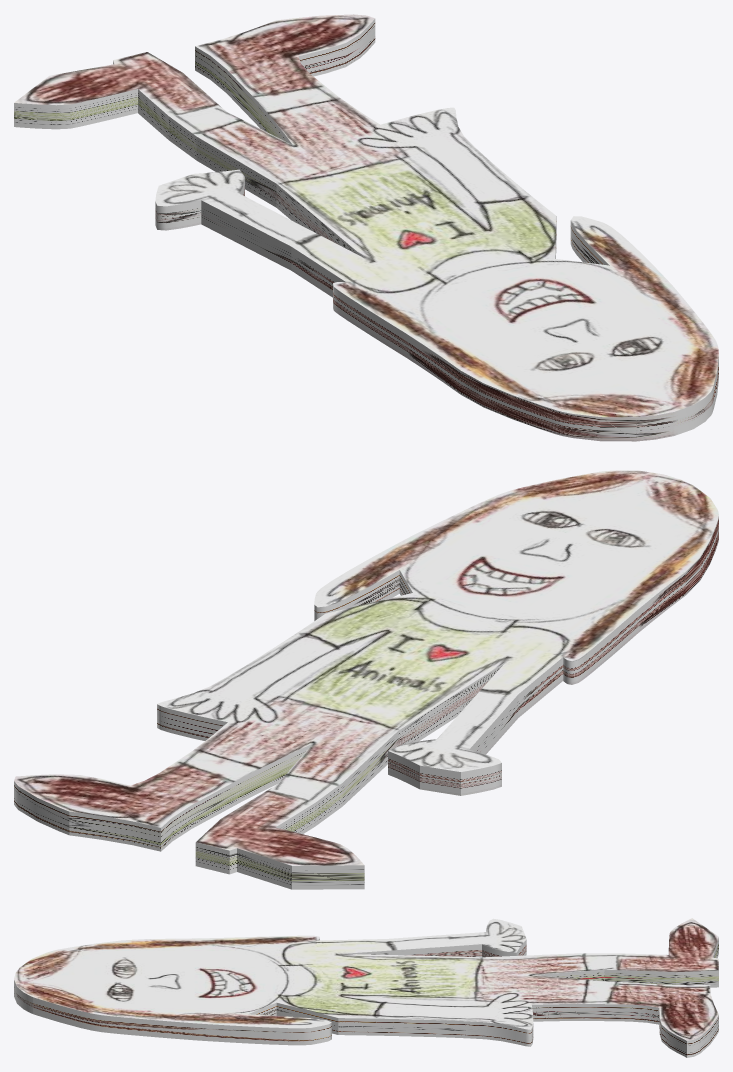
Rendered from iloveanimals.obj.
The picture shows the model from 3 angles, top to bottom: view 1: azimuth 30°, elevation 25°; view 2: azimuth 150°, elevation 25°; view 3: azimuth 270°, elevation 25°; orthographic projection. The views are drawn at different scales.
Parts seen in each view (by area): view 1: Spline_Object; view 2: Spline_Object; view 3: Spline_Object.
Boxes of the visible parts, x1=… form: Spline_Object: x1=14, y1=14, x2=718, y2=441; Spline_Object: x1=14, y1=470, x2=718, y2=889; Spline_Object: x1=14, y1=918, x2=718, y2=1057.
Size of the model in its own units: 96.37 by 6.22 by 234.
Materials: 3 (3 with a texture image).
